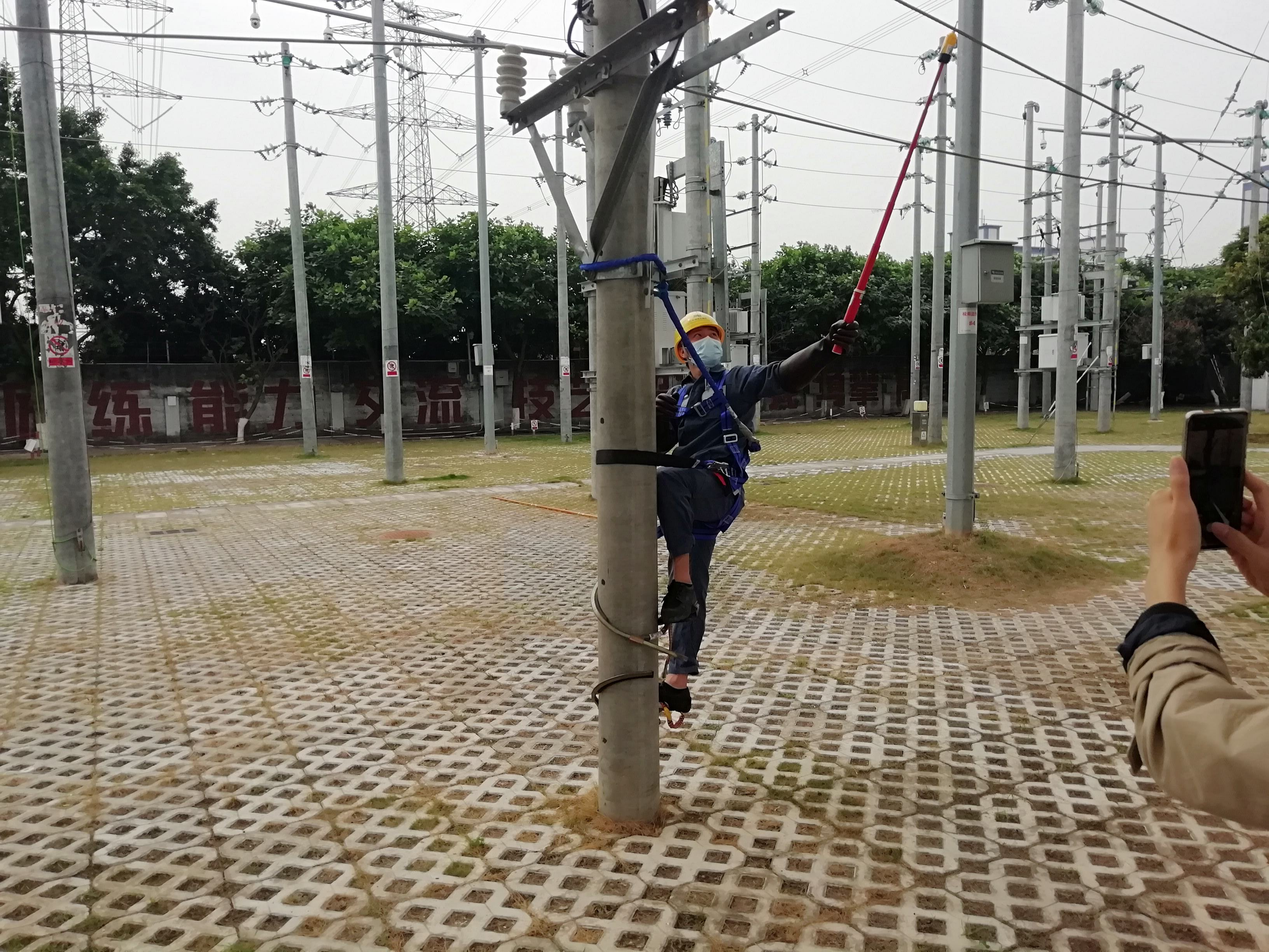绝缘操作杆: (830, 20, 960, 356)
